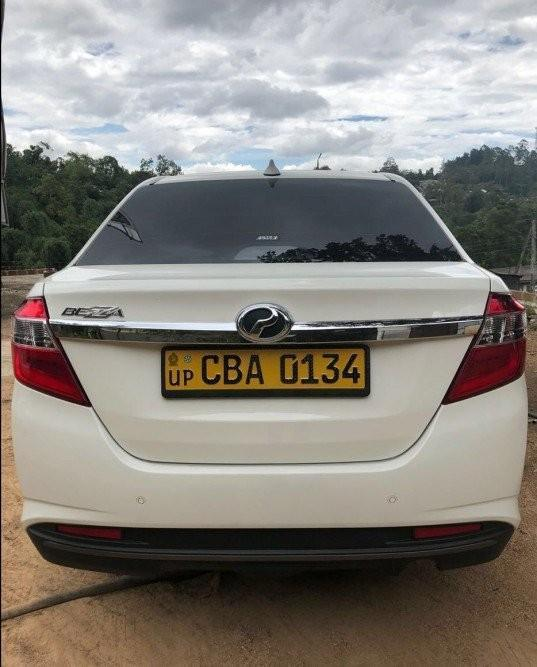license-plate: (161, 349, 363, 385)
